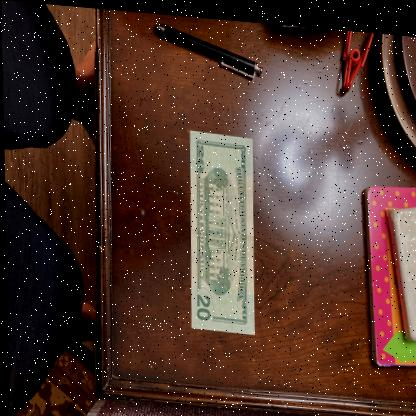twenty-back: (185, 126, 255, 331)
